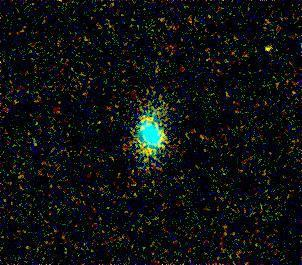star: (254, 34, 284, 64)
